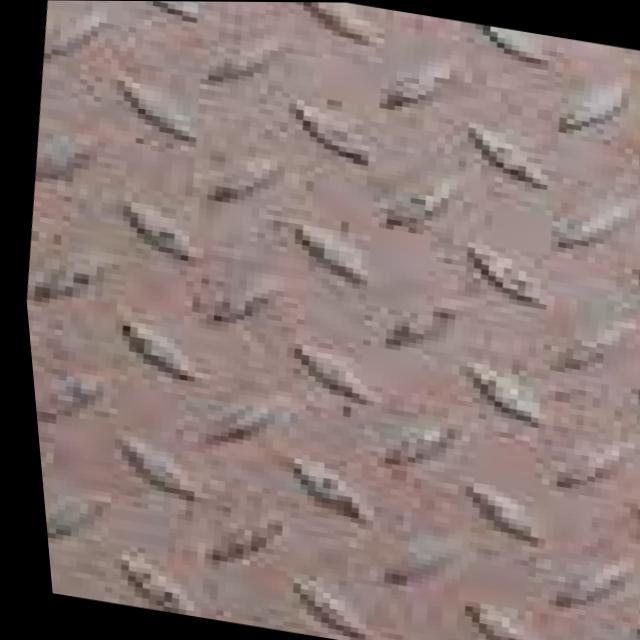metal-plates: (22, 1, 640, 640)
